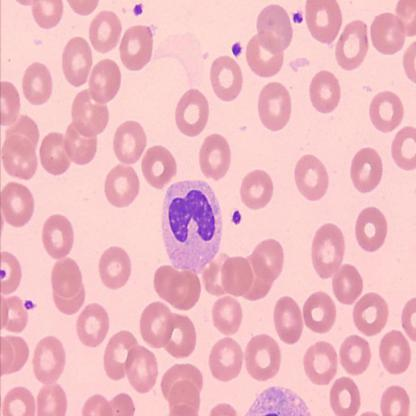Band Neutrophil: (159, 174, 226, 272)
